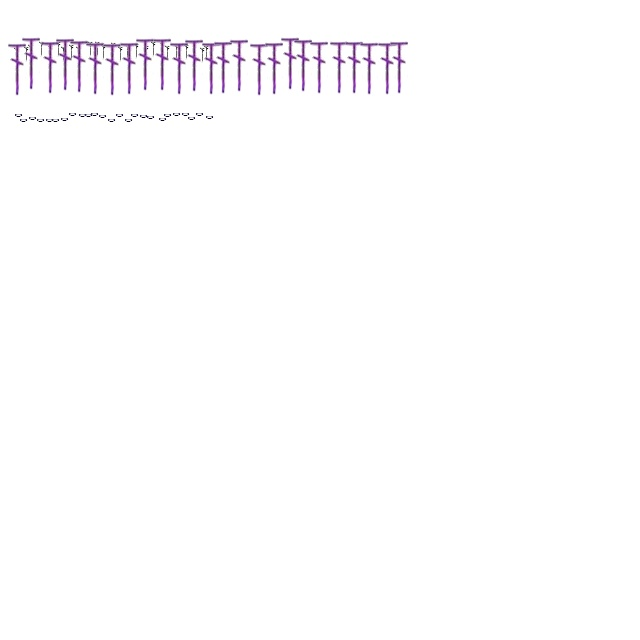chain: (14, 112, 24, 118), (28, 115, 38, 121), (36, 117, 46, 123), (60, 116, 70, 122), (68, 111, 78, 117), (78, 112, 88, 118), (84, 112, 94, 118), (90, 111, 100, 117), (98, 113, 108, 119), (124, 117, 134, 123), (130, 112, 140, 118), (146, 114, 156, 120), (158, 116, 168, 122), (172, 111, 182, 117), (20, 117, 28, 123), (46, 117, 54, 123), (52, 117, 60, 123), (108, 117, 116, 123), (116, 112, 124, 118), (140, 113, 148, 119), (164, 112, 172, 118), (182, 111, 190, 117), (188, 115, 196, 121), (196, 111, 204, 117), (206, 114, 214, 120)
double treble: (56, 36, 74, 92), (70, 38, 88, 94), (86, 40, 104, 96), (120, 40, 138, 96), (136, 36, 154, 92), (153, 36, 171, 92), (170, 40, 188, 96), (202, 40, 220, 96), (265, 40, 283, 96), (360, 40, 378, 96), (378, 40, 396, 96), (8, 42, 26, 96), (22, 36, 40, 90), (41, 40, 59, 94), (103, 42, 121, 96), (185, 38, 203, 92), (214, 40, 232, 94), (230, 38, 248, 92), (250, 42, 268, 96), (281, 36, 299, 90), (294, 38, 312, 92), (310, 40, 328, 94), (330, 40, 348, 94), (345, 40, 363, 94), (390, 40, 408, 94), (14, 47, 20, 63), (24, 46, 30, 62), (28, 44, 34, 60), (48, 45, 54, 61), (56, 41, 62, 57), (76, 46, 82, 62), (88, 41, 94, 57), (118, 46, 124, 62), (134, 43, 140, 59), (144, 45, 150, 61), (160, 42, 166, 58), (174, 44, 180, 60), (184, 44, 190, 60), (200, 47, 206, 63), (204, 45, 210, 61), (40, 41, 44, 57), (62, 46, 66, 62), (70, 44, 74, 60), (96, 41, 100, 57), (102, 44, 106, 60), (112, 42, 116, 58), (126, 44, 130, 60), (152, 41, 156, 57), (166, 45, 170, 61), (192, 41, 196, 57)
